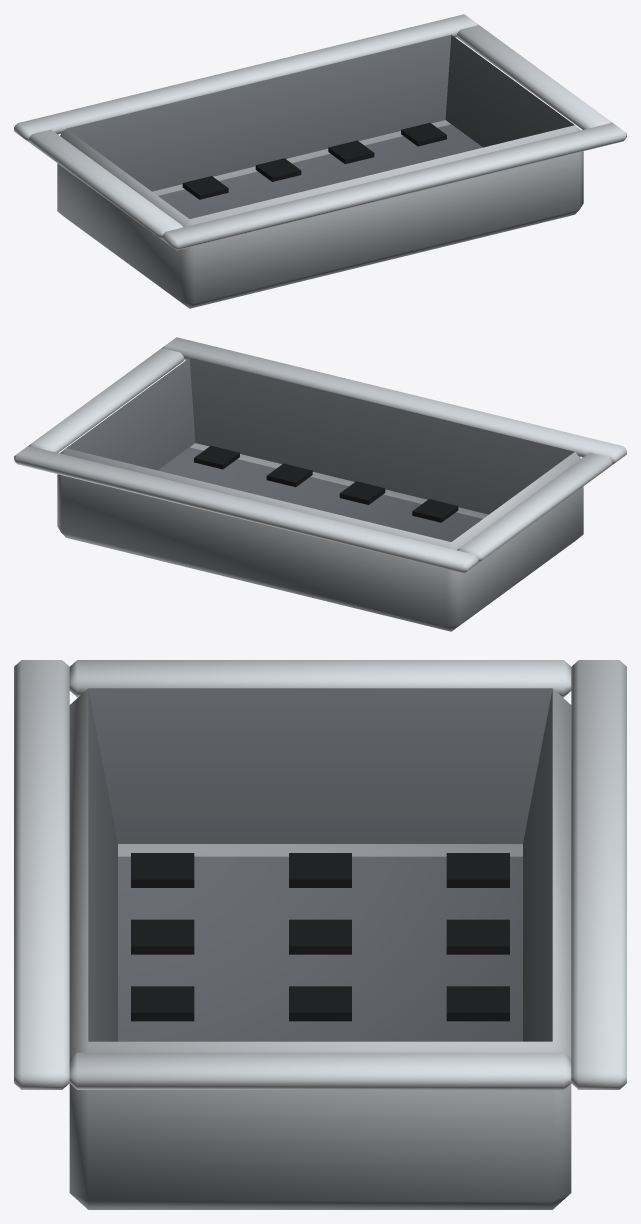
File: SM_HotelPan_Perforated_01.glb
3 views of the same model, one above another, from view 1: azimuth 30°, elevation 25°; view 2: azimuth 150°, elevation 25°; view 3: azimuth 270°, elevation 25° (orthographic). The views are drawn at different scales.
Visible parts, largest first — view 1: SM_HotelPan_Perforated_01; view 2: SM_HotelPan_Perforated_01; view 3: SM_HotelPan_Perforated_01.
Part boxes in pixels (x1,y1,x2,y2): SM_HotelPan_Perforated_01: (14,14,626,308); SM_HotelPan_Perforated_01: (14,337,626,631); SM_HotelPan_Perforated_01: (14,660,626,1209).
Size of the model in its own units: 0.53 by 0.1 by 0.33.
Materials: 1 (1 with a texture image).
